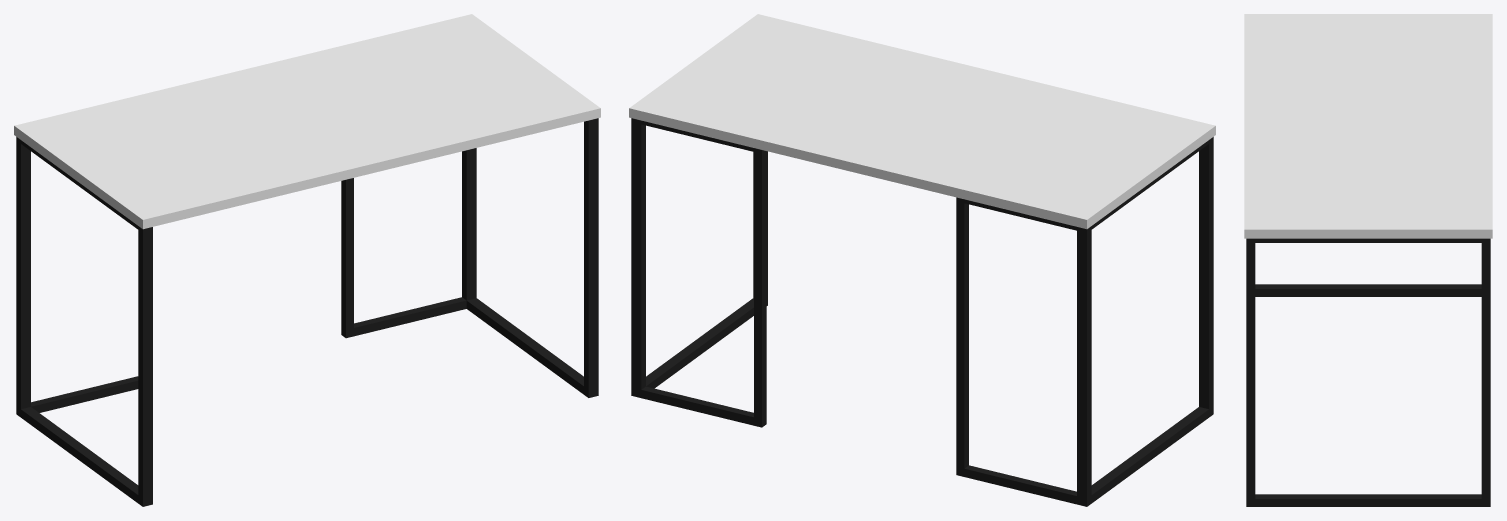
Rendered from office_table_035.glb.
The picture shows the model from 3 angles, left to right: view 1: azimuth 30°, elevation 25°; view 2: azimuth 150°, elevation 25°; view 3: azimuth 270°, elevation 25°; orthographic projection. The views are drawn at different scales.
Visible parts, largest first — view 1: office_table_035; view 2: office_table_035; view 3: office_table_035.
Boxes of the visible parts, x1,y1,x2,y2 form: office_table_035: (14, 14, 600, 506); office_table_035: (629, 14, 1215, 506); office_table_035: (1244, 14, 1492, 506).
Size of the model in its own units: 1.29 by 0.7738 by 0.627.
1 material, 1 textured.
